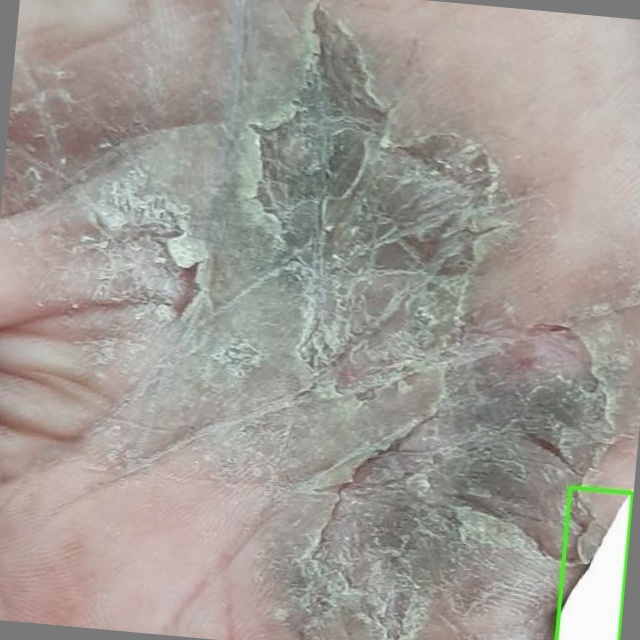Contact Dermatitis: (556, 488, 632, 639)
